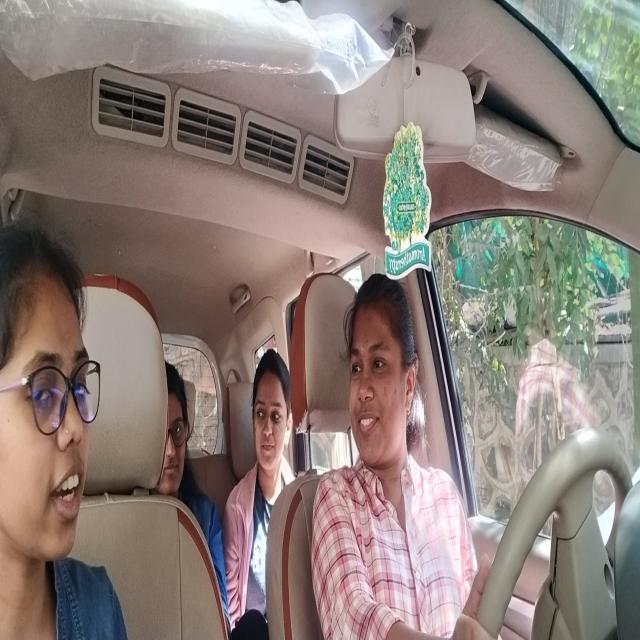LeftRight: (347, 274, 425, 489)
person: (1, 230, 100, 574), (250, 355, 294, 491), (160, 364, 196, 496)
talking: (48, 461, 88, 531), (355, 412, 386, 436)
